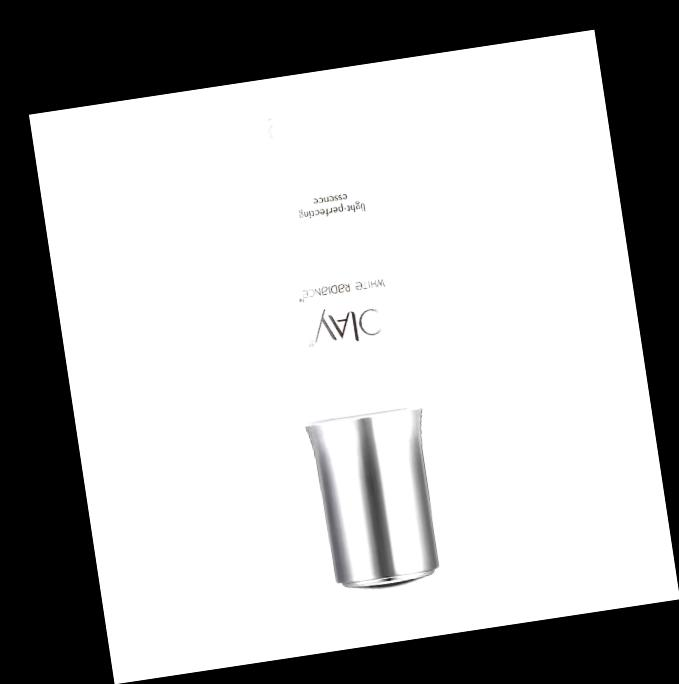cosmetic: (258, 107, 450, 598)
